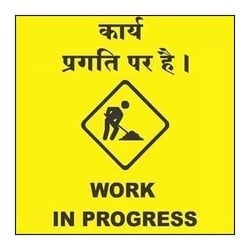caution: (79, 79, 171, 171)
